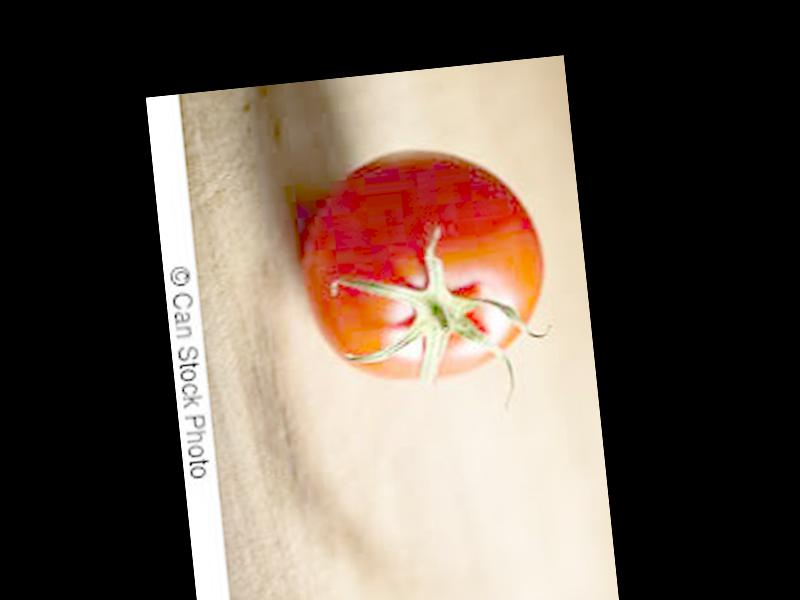Tomato: (293, 140, 551, 394)
